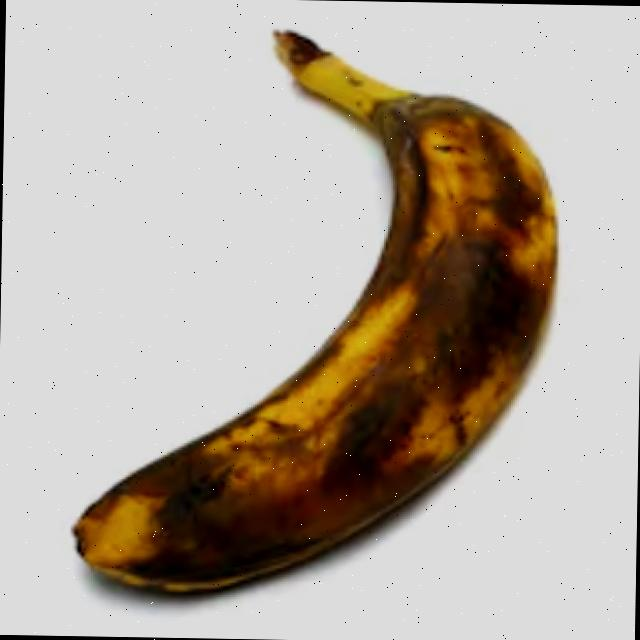rotten banana: (44, 32, 607, 626)
